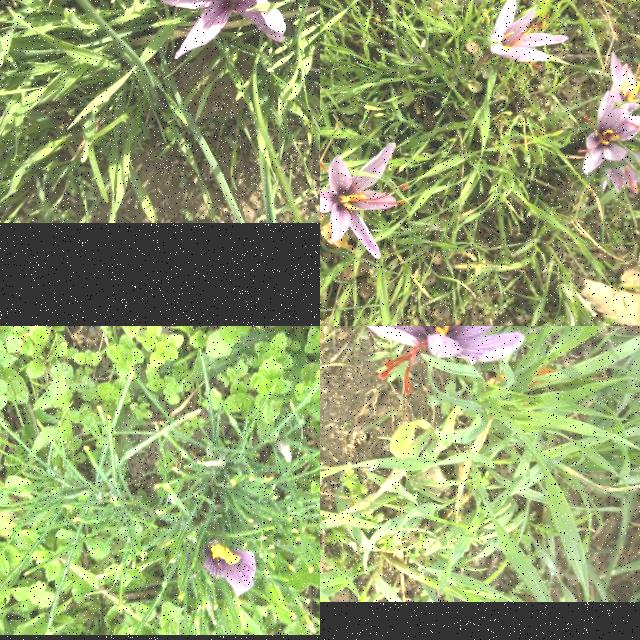flower: (366, 326, 522, 392), (320, 142, 407, 258), (160, 0, 288, 58), (485, 0, 570, 67), (577, 92, 640, 175)
overlap: (599, 52, 640, 194)
